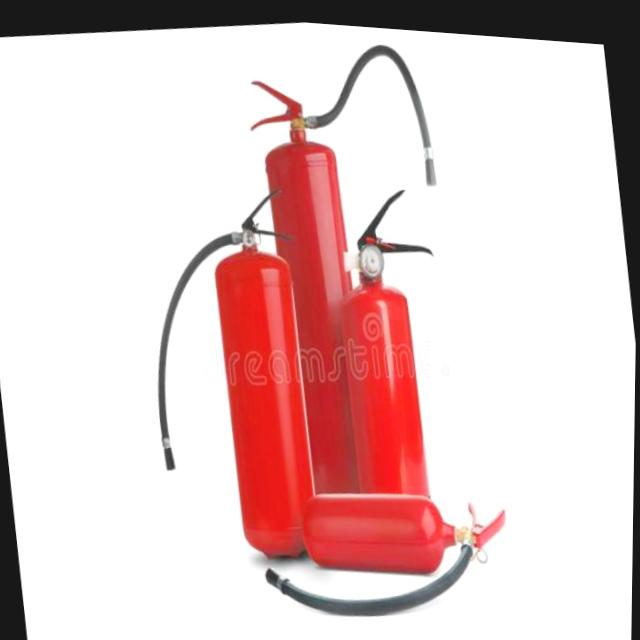FireExtinguisher: (232, 20, 487, 560), (124, 167, 337, 582), (314, 174, 475, 544), (247, 450, 531, 638)
